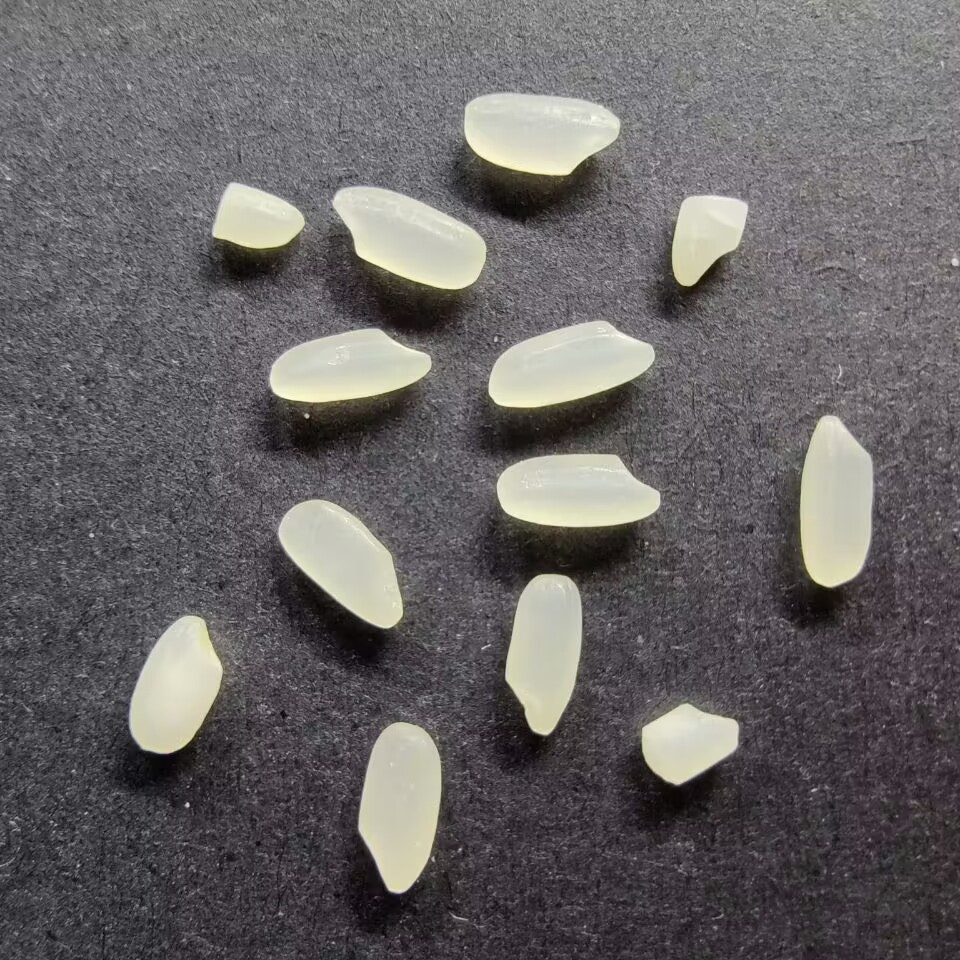broken: (637, 700, 741, 787), (668, 193, 750, 287), (210, 180, 305, 249)
rice: (275, 497, 405, 629), (330, 184, 487, 290), (355, 720, 442, 895), (486, 319, 656, 408), (461, 91, 622, 177), (126, 614, 223, 755), (797, 414, 875, 589), (502, 572, 584, 736), (495, 451, 661, 529), (268, 326, 432, 403)
